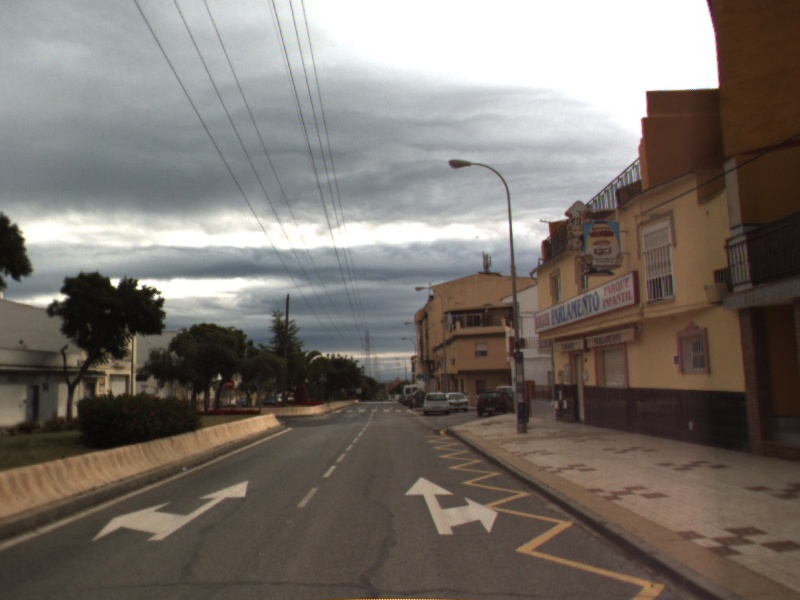STRAIGHT_LEFT: (89, 479, 251, 544)
STRAIGHT_RIGHT: (402, 474, 500, 537)
